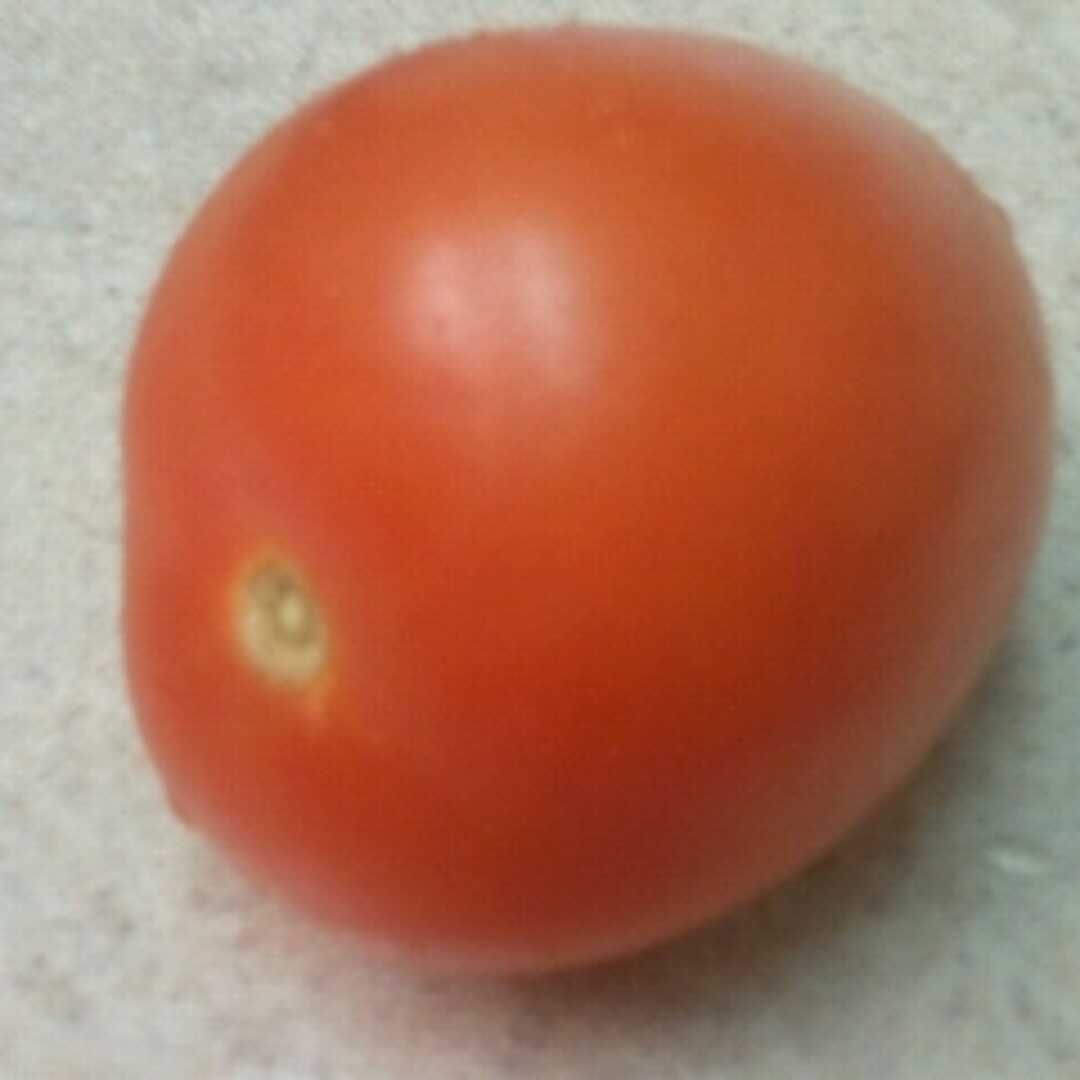tomato: (121, 23, 1059, 971)
